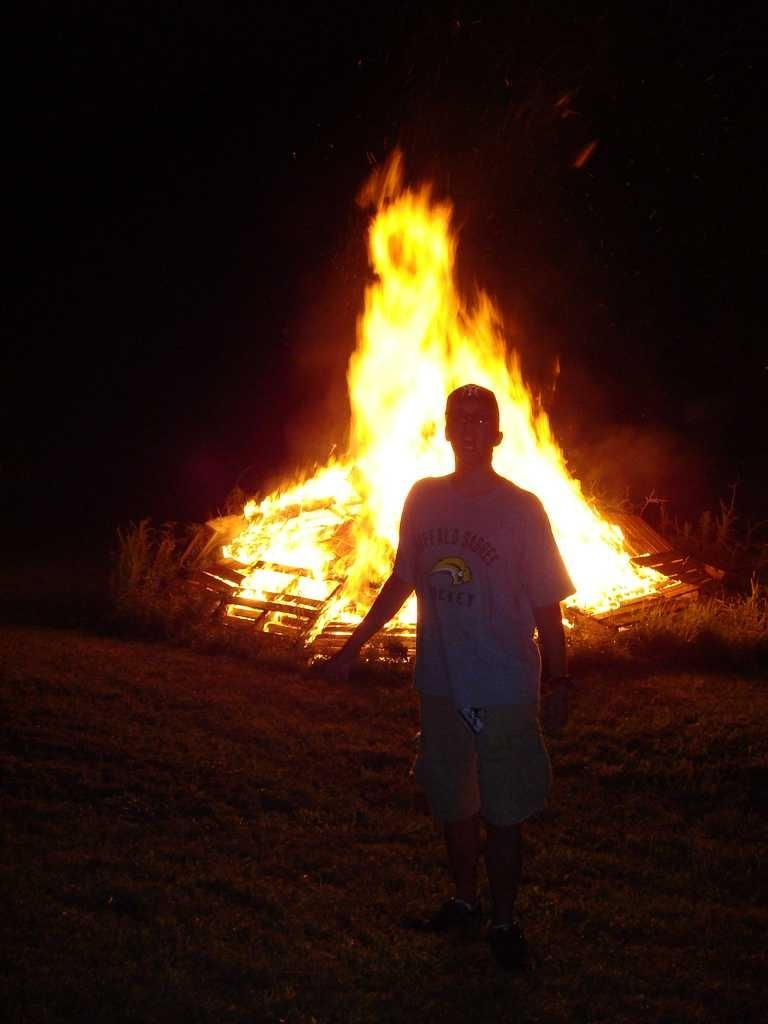fire: (360, 300, 447, 473), (257, 507, 347, 612), (380, 208, 447, 295), (555, 495, 607, 585), (500, 410, 552, 480)
